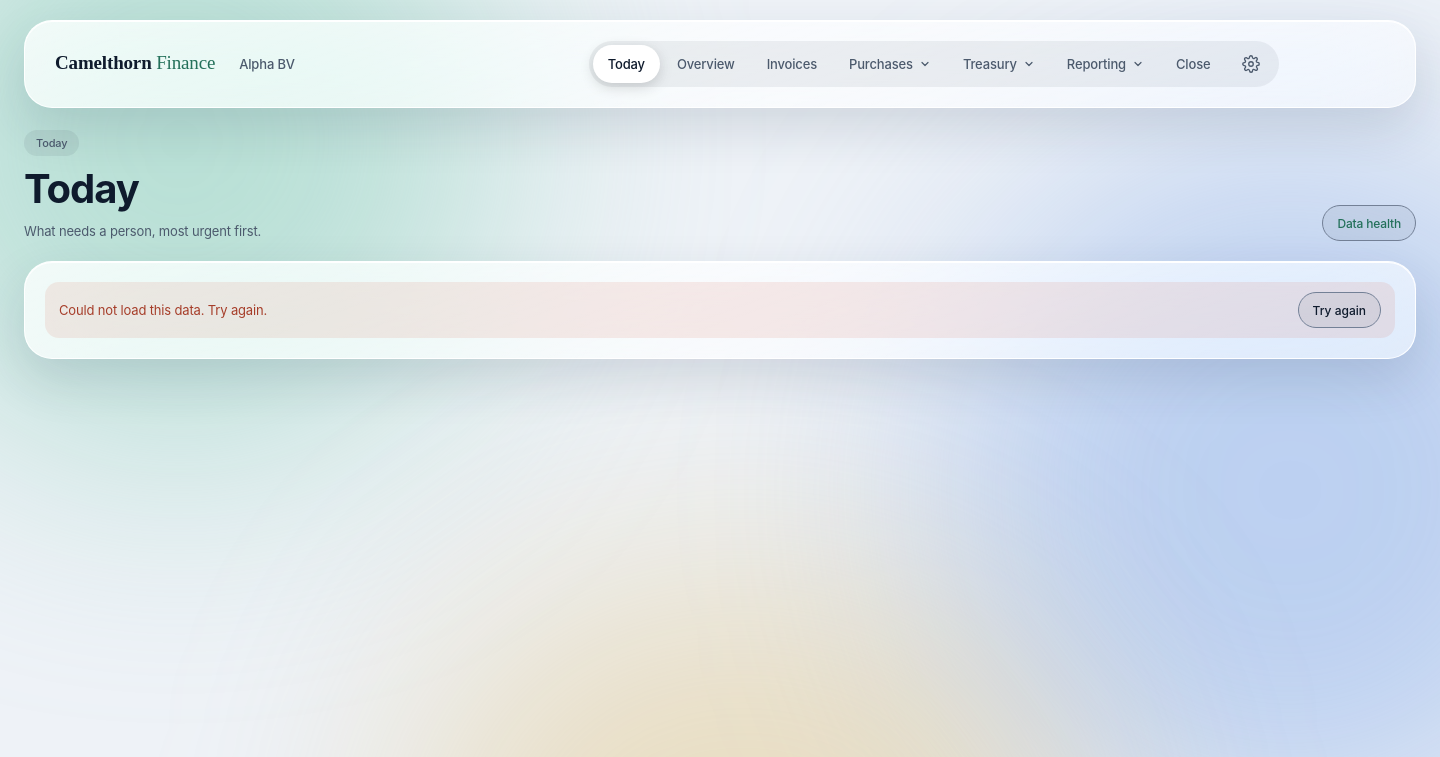
Scenario: Today queue › shows loading as busy and an error with Try again
This screenshot has width=1440, height=757.
Expected: the message "Could not load this data. Try again. Try again" is shown, [45, 282, 1395, 338]
Step 1. Click the button "Try again" → [1339, 310], box [1298, 292, 1381, 328]
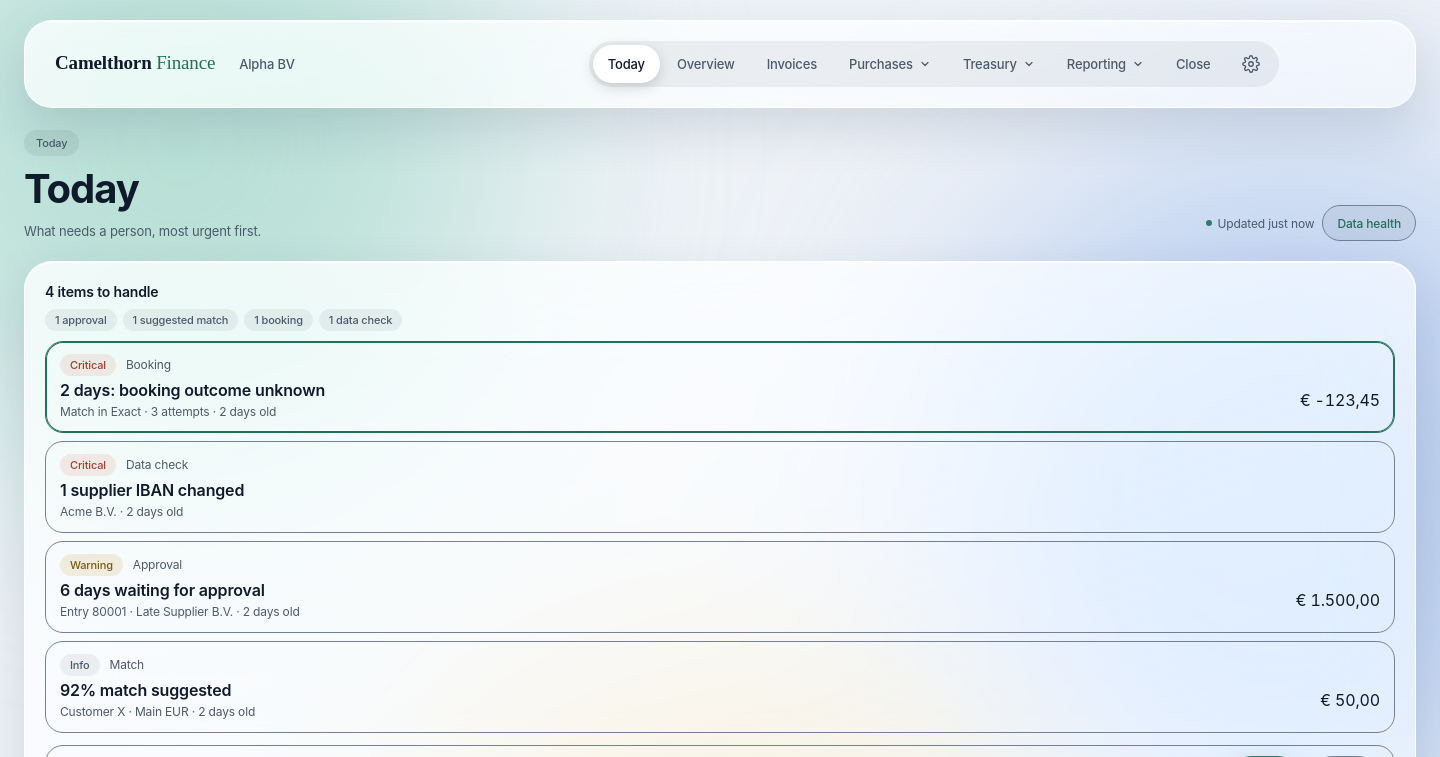
Expected: the 1st option is shown, [45, 341, 1395, 433]
